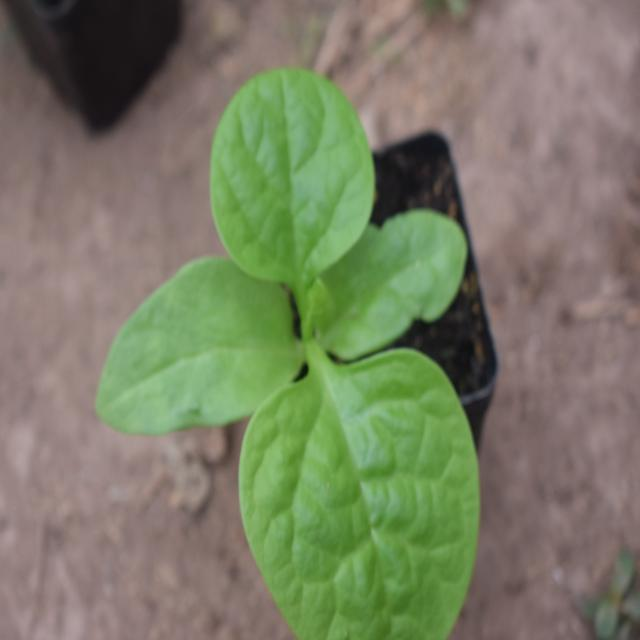Ceylon spinach: (131, 76, 485, 624)
